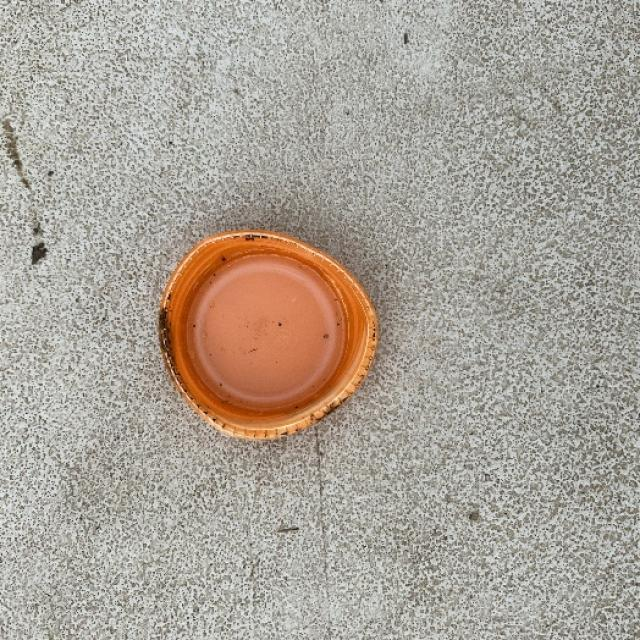plastic: (158, 227, 378, 440)
